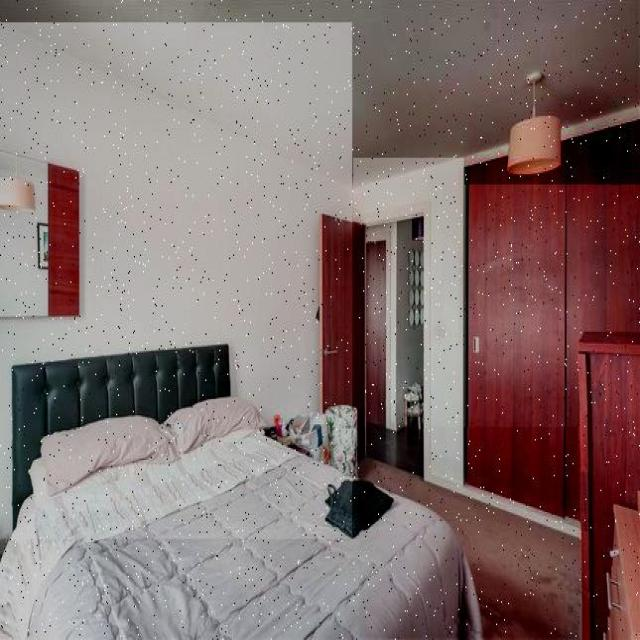Wall: (0, 23, 352, 539), (0, 0, 640, 185), (360, 428, 579, 639), (353, 159, 464, 484)
